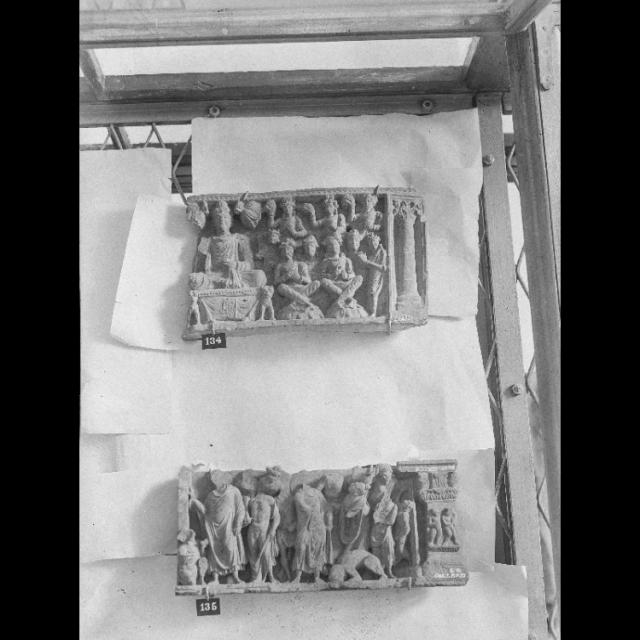buddha-sitting: (185, 200, 275, 294)
buddha-standing: (288, 468, 338, 585)
